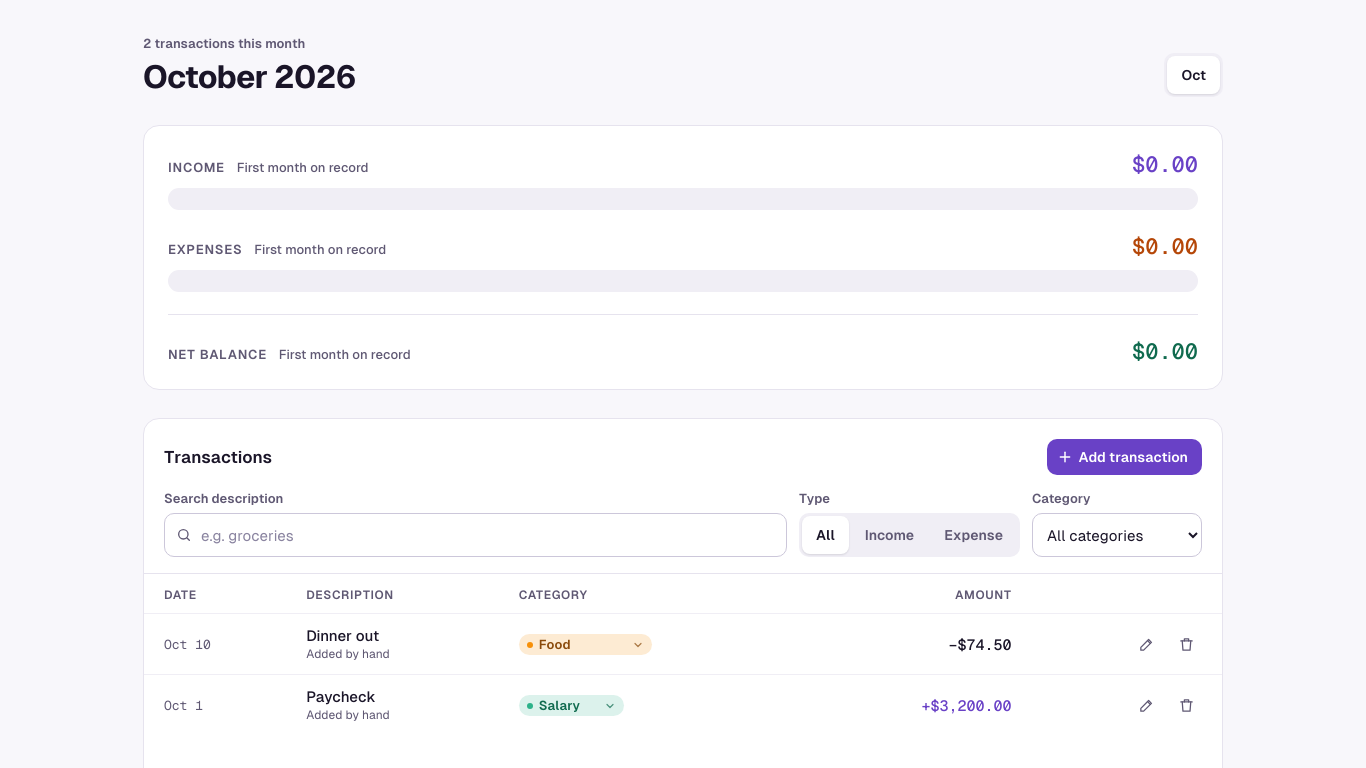
Test: HomePage › closes the edit dialog without saving on Cancel
The width and height of the screenshot is (1366, 768).
Click the button named "Edit Paycheck". click: coordinates (1146, 705)
box: [1126,685,1166,725]
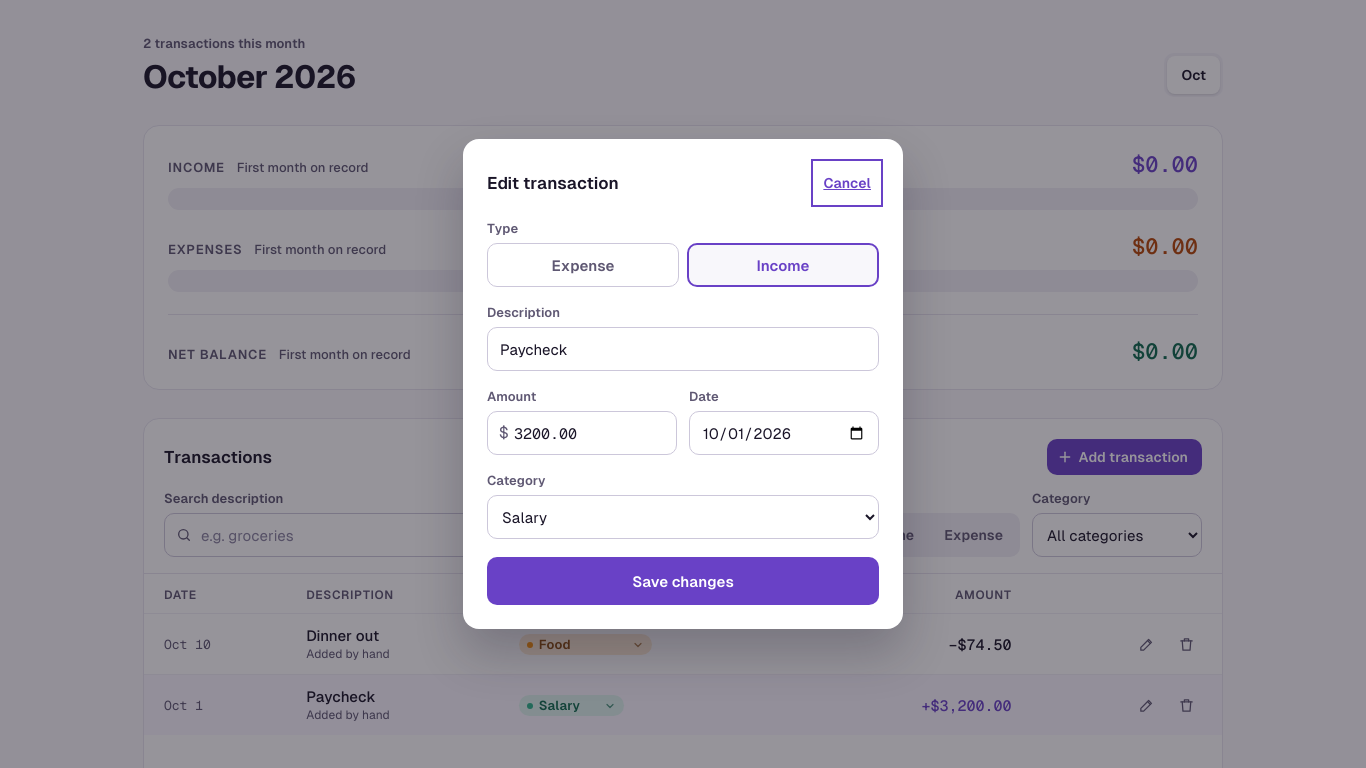
Click the button "Cancel". click: coordinates (847, 183)
box: [815,163,879,203]
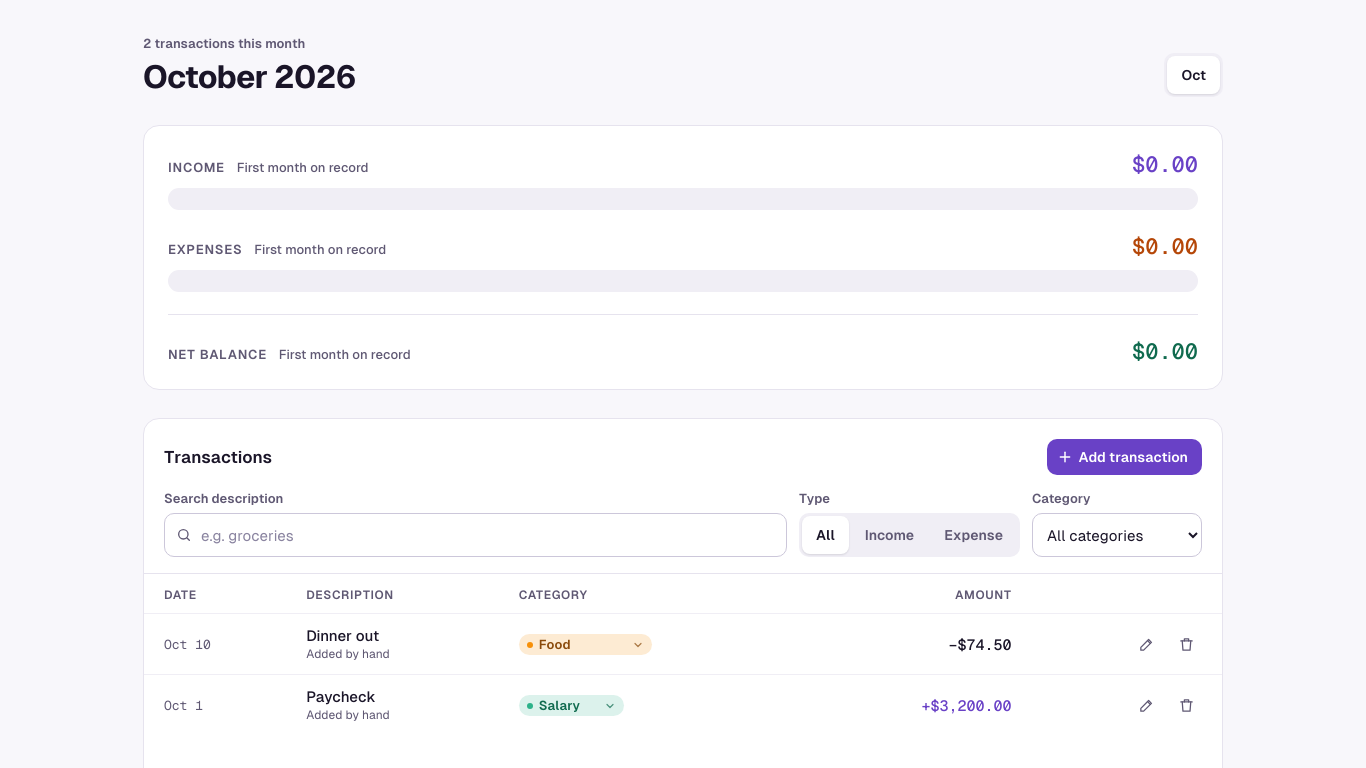
Expected: the dialog is gone
